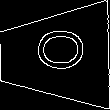O_W: (26, 34, 83, 78)
